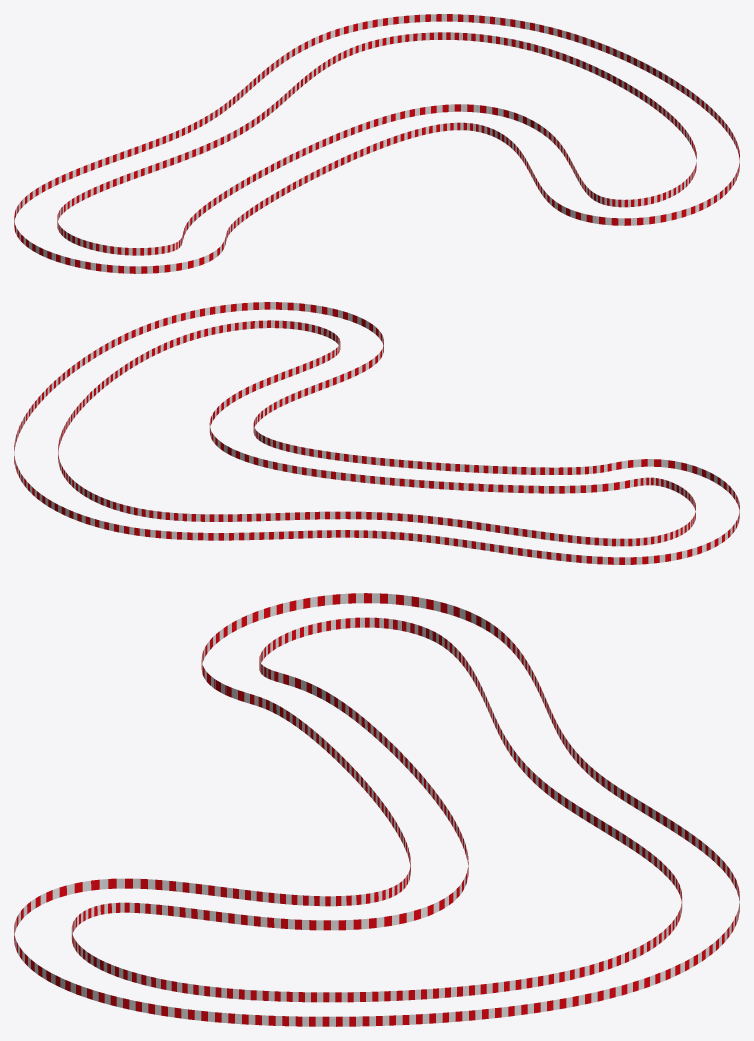
Rendered from Striped Wall.fbx.
The picture shows the model from 3 angles, top to bottom: view 1: azimuth 30°, elevation 25°; view 2: azimuth 150°, elevation 25°; view 3: azimuth 270°, elevation 25°; orthographic projection. The views are drawn at different scales.
Visible parts, largest first — view 1: Wall; view 2: Wall; view 3: Wall.
Part boxes in pixels (left/top/right/bottom): Wall: left=14, top=14, right=739, bottom=273; Wall: left=14, top=302, right=739, bottom=564; Wall: left=14, top=593, right=739, bottom=1026.
Bounding box in the file's own units: 11978 × 153 × 8676.
